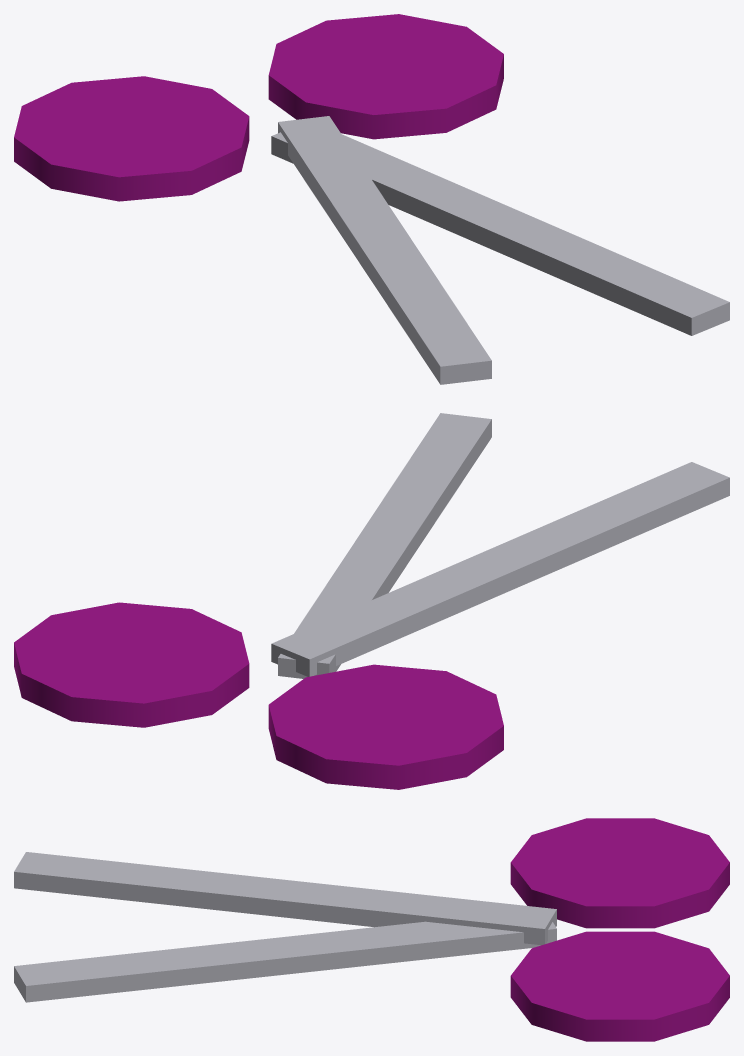
Rendered from scissors.glb.
The picture shows the model from 3 angles, top to bottom: view 1: azimuth 30°, elevation 25°; view 2: azimuth 150°, elevation 25°; view 3: azimuth 270°, elevation 25°; orthographic projection. The views are drawn at different scales.
Parts seen in each view (by area): view 1: body; view 2: body; view 3: body.
Part boxes in pixels (x1,y1,x2,y2): body: (14, 14, 729, 384); body: (14, 413, 729, 789); body: (14, 818, 729, 1041).
Size of the model in its own units: 0.7824 by 0.045 by 1.18.
